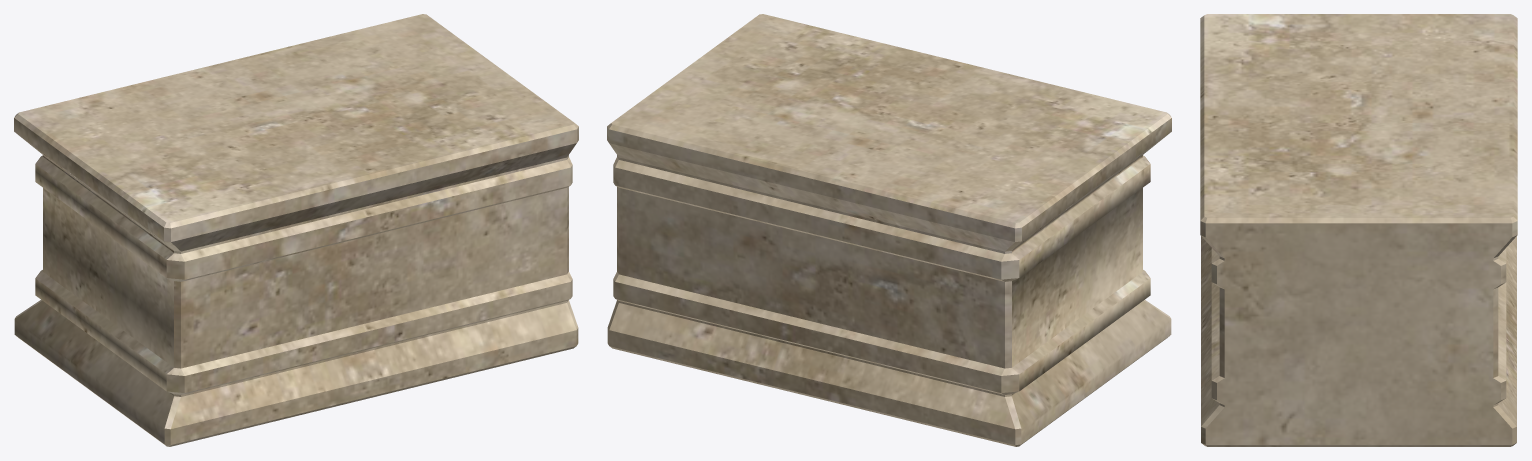
File: decorative_brick_end.FBX
3 renders of one model, left to right at view 1: azimuth 30°, elevation 25°; view 2: azimuth 150°, elevation 25°; view 3: azimuth 270°, elevation 25°, orthographic. The views are drawn at different scales.
Parts seen in each view (by area): view 1: Object008; view 2: Object008; view 3: Object008.
Boxes of the visible parts, x1,y1,x2,y2 form: Object008: [14, 14, 578, 446]; Object008: [607, 14, 1171, 446]; Object008: [1200, 14, 1517, 446].
Bounding box in the file's own units: 100 × 51.69 × 64.79.
